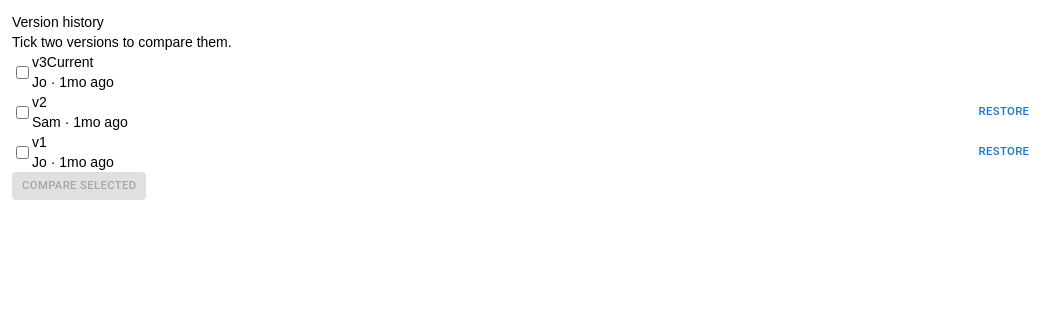
Test: JL-109 compare › renders added and removed lines
Expected: the text "v3" is shown, [32, 54, 94, 70]
Click the checkbox named "Select version 1 to compare": (22, 152) [16, 146, 29, 158]
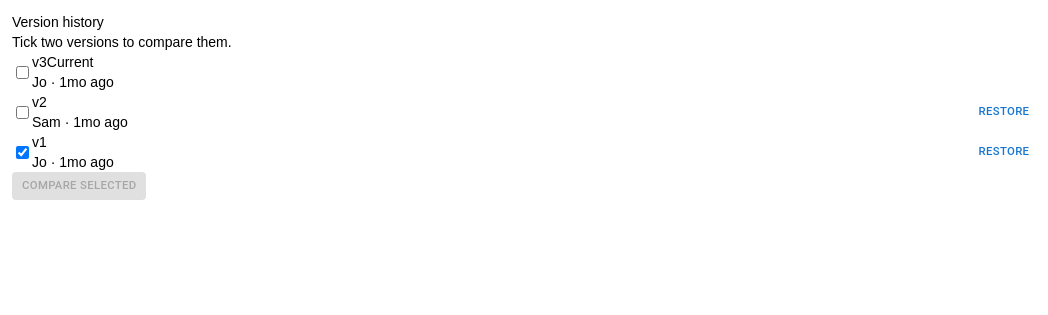
Click the checkbox named "Select version 3 to compare": (22, 72) [16, 66, 29, 78]
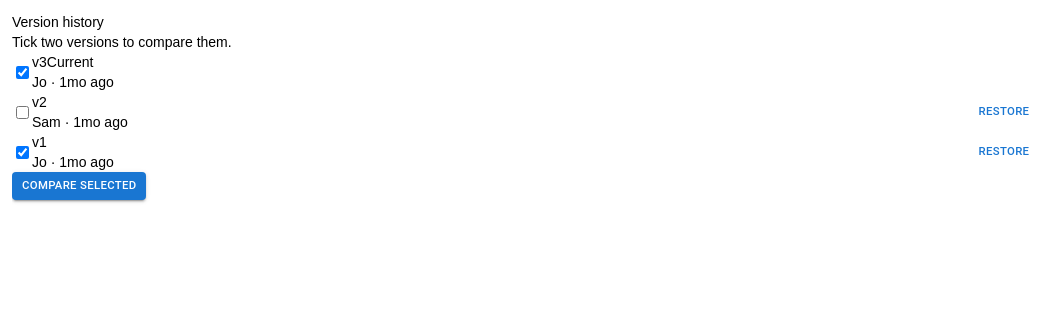
Click the button "Compare selected": (79, 186) [12, 172, 146, 200]
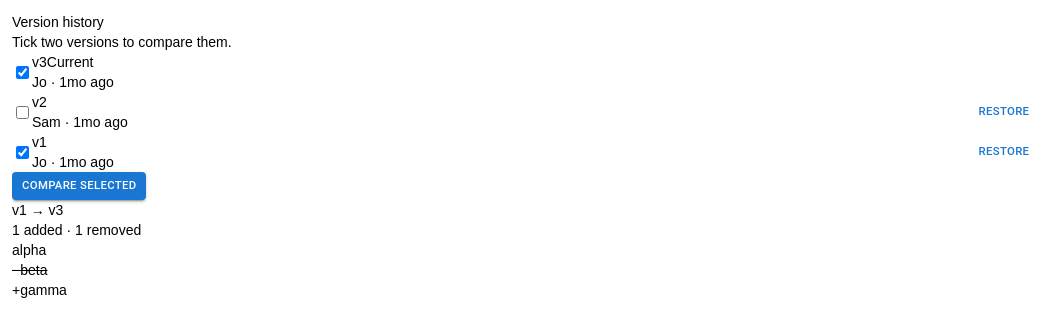
Result: the text "gamma" is shown at [20, 282, 67, 298]
Result: the text "beta" is shown at [20, 262, 48, 278]
Result: the text "1 added · 1 removed" is shown at [12, 222, 141, 238]
